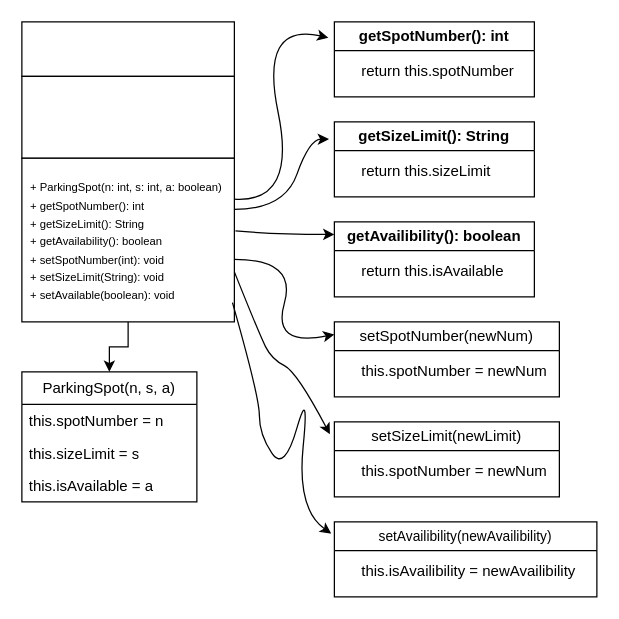
The diagram is 619 pixels wide and 619 high, and some of its shapes have lost their labels. Each missing label, with the centre of its shape:
- spotNumber: int - sizeLimit: int - isAvailable: boolean: the point at 127,116
ParkingSpot: the point at 127,48
